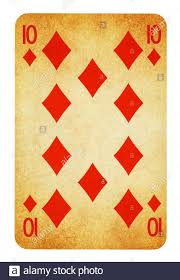ten of diamonds: (14, 13, 167, 249)
